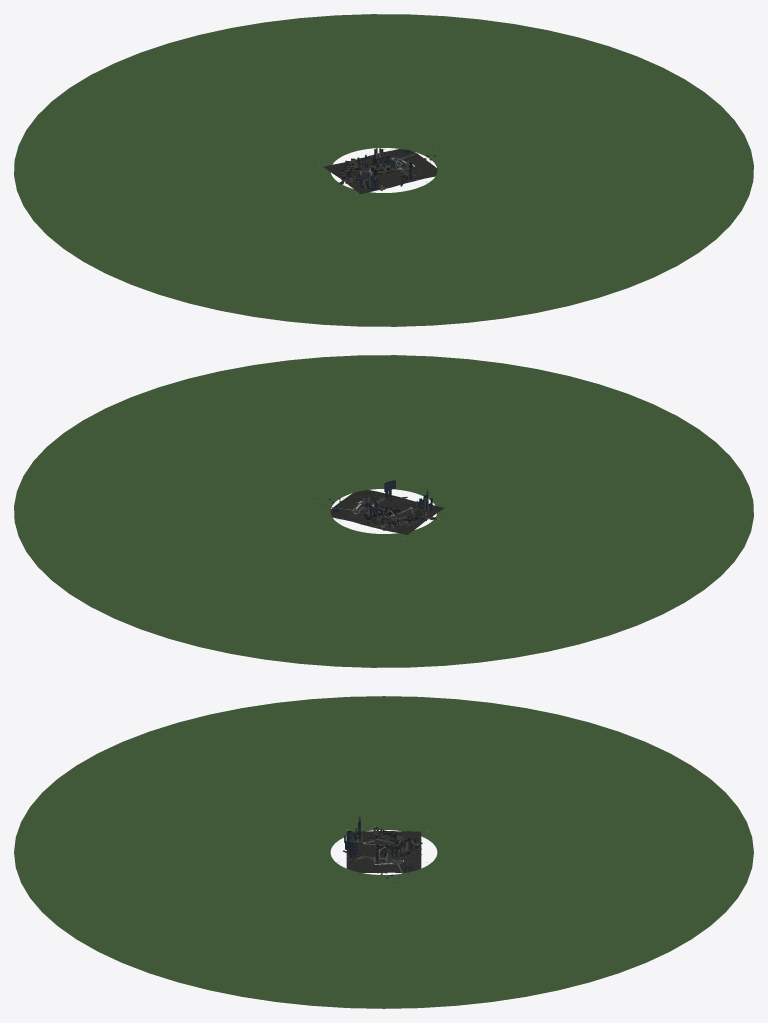
File: singapore.glb
3 views of the same model, one above another, from view 1: azimuth 30°, elevation 25°; view 2: azimuth 150°, elevation 25°; view 3: azimuth 270°, elevation 25° (orthographic).
Parts seen in each view (by area): view 1: RL_Circuit; view 2: RL_Circuit; view 3: RL_Circuit.
Boxes of the visible parts, box(x1,y1,x2,y2) form: RL_Circuit: box(14, 14, 753, 326); RL_Circuit: box(14, 355, 753, 667); RL_Circuit: box(14, 696, 753, 1008).
Bounding box in the file's own units: 18000 × 574 × 18000.
99 materials, 65 textured.
